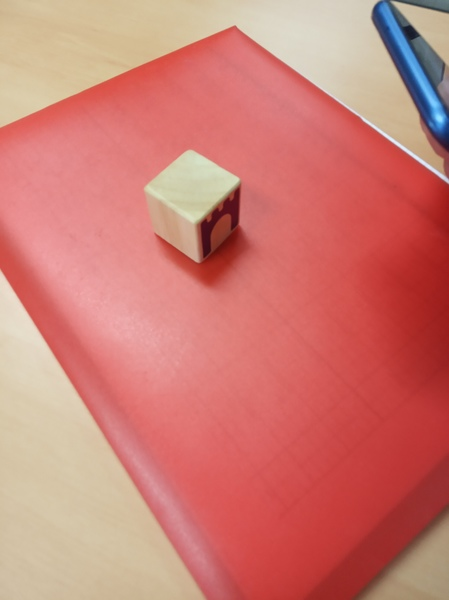violet: (150, 162, 244, 257)
